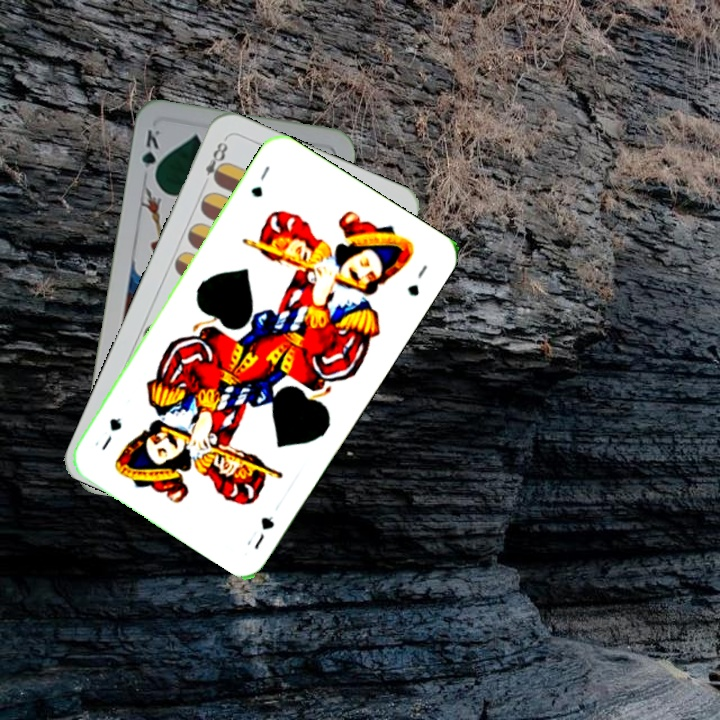E8: (201, 135, 231, 187)
GK: (137, 125, 163, 183)
GU: (242, 511, 277, 553), (246, 161, 272, 200)
